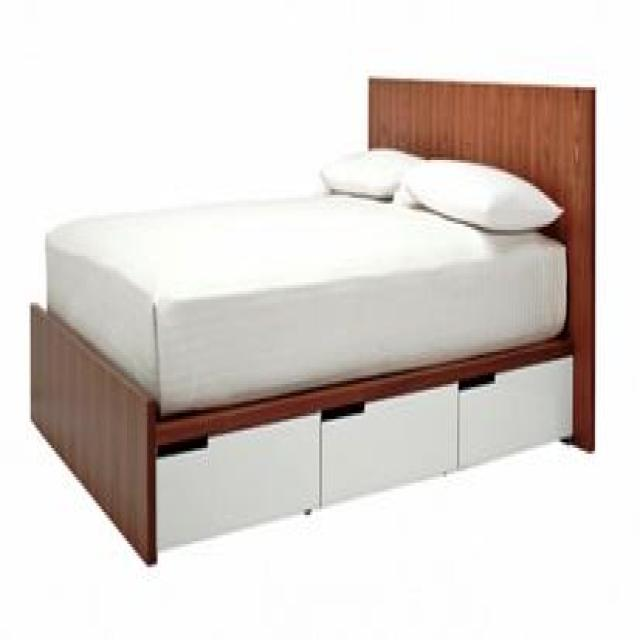bed: (27, 72, 595, 569)
